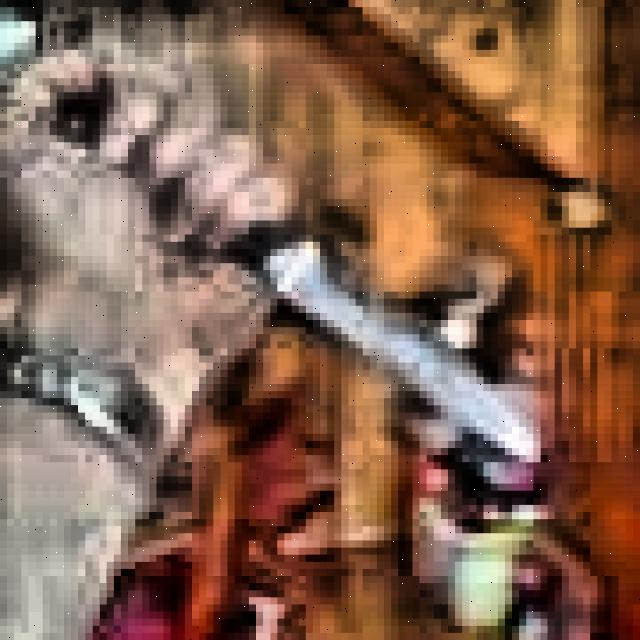knife: (61, 101, 546, 468)
